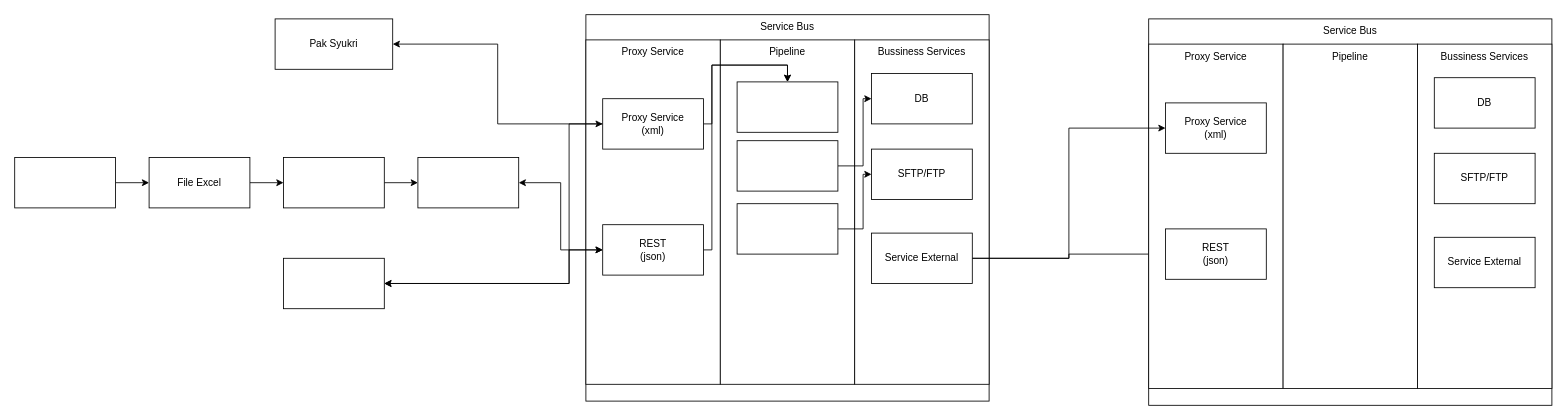
Image size: 1567x420. Some labels were removed from this diagram. The centre of each missing label's shape, as x and y in pixels:
"ADK (bagya)" goes at point (333, 182).
"Client" goes at point (65, 182).
"download file" goes at point (787, 228).
"insert ke db" goes at point (787, 165).
"JSON" goes at point (468, 182).
"Span, Sakti, Sikri, ?, Ihsan" goes at point (333, 283).
"validasi" goes at point (787, 106).
